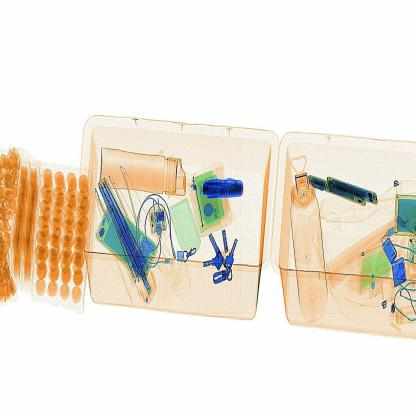scissors: (197, 171, 252, 207)
